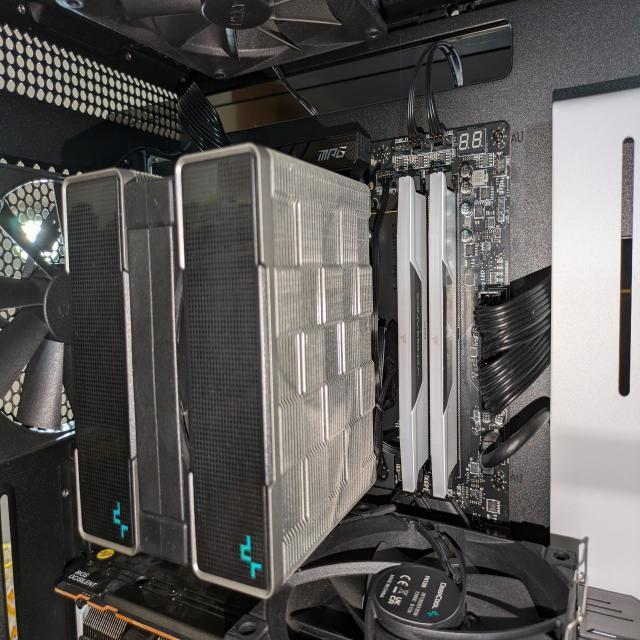CPU_Fan: (62, 143, 376, 600)
Mainboard: (372, 122, 510, 524)
RAM: (426, 170, 464, 498), (392, 171, 428, 494)
